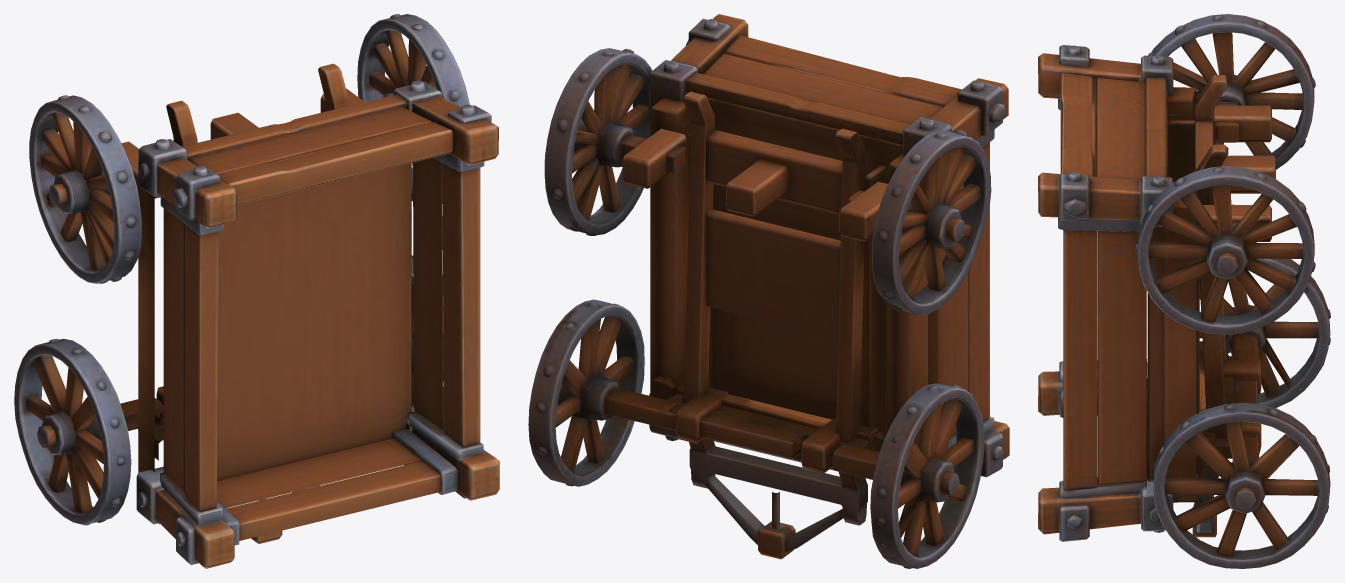
The model's file is k-wagon.glb.
3 renders of one model, left to right at view 1: azimuth 30°, elevation 25°; view 2: azimuth 150°, elevation 25°; view 3: azimuth 270°, elevation 25°, orthographic. The views are drawn at different scales.
Visible parts, largest first — view 1: WoodenWagon(Clone); view 2: WoodenWagon(Clone); view 3: WoodenWagon(Clone).
Part boxes in pixels (x1,y1,x2,y2): WoodenWagon(Clone): (14,14,499,568); WoodenWagon(Clone): (528,14,1009,568); WoodenWagon(Clone): (1038,14,1330,568).
Bounding box in the file's own units: 0.8921 × 0.9995 × 0.603.
Materials: 1 (1 with a texture image).
